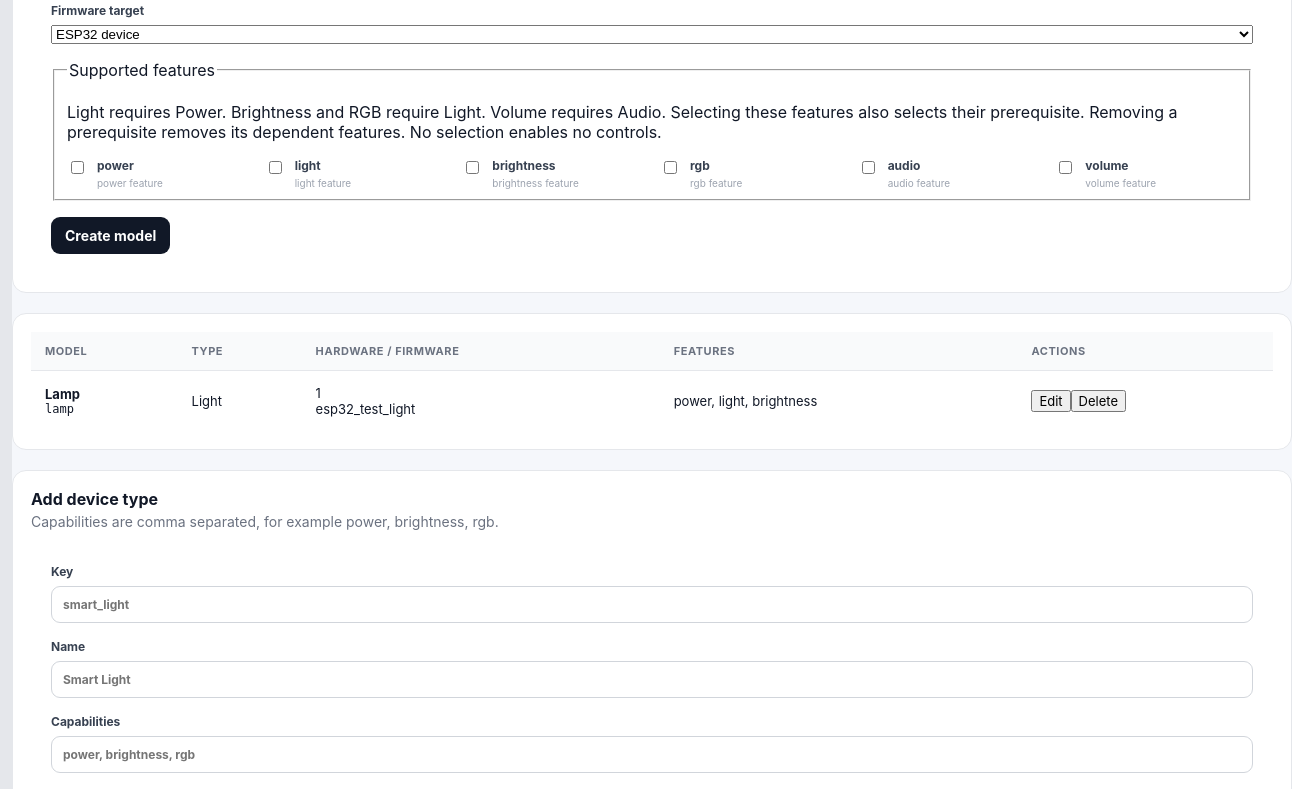
shows pending schedule delivery after a model is saved
(page scrolled)
Click the button with aria-label "Edit Lamp": (1051, 401) [1031, 390, 1071, 412]
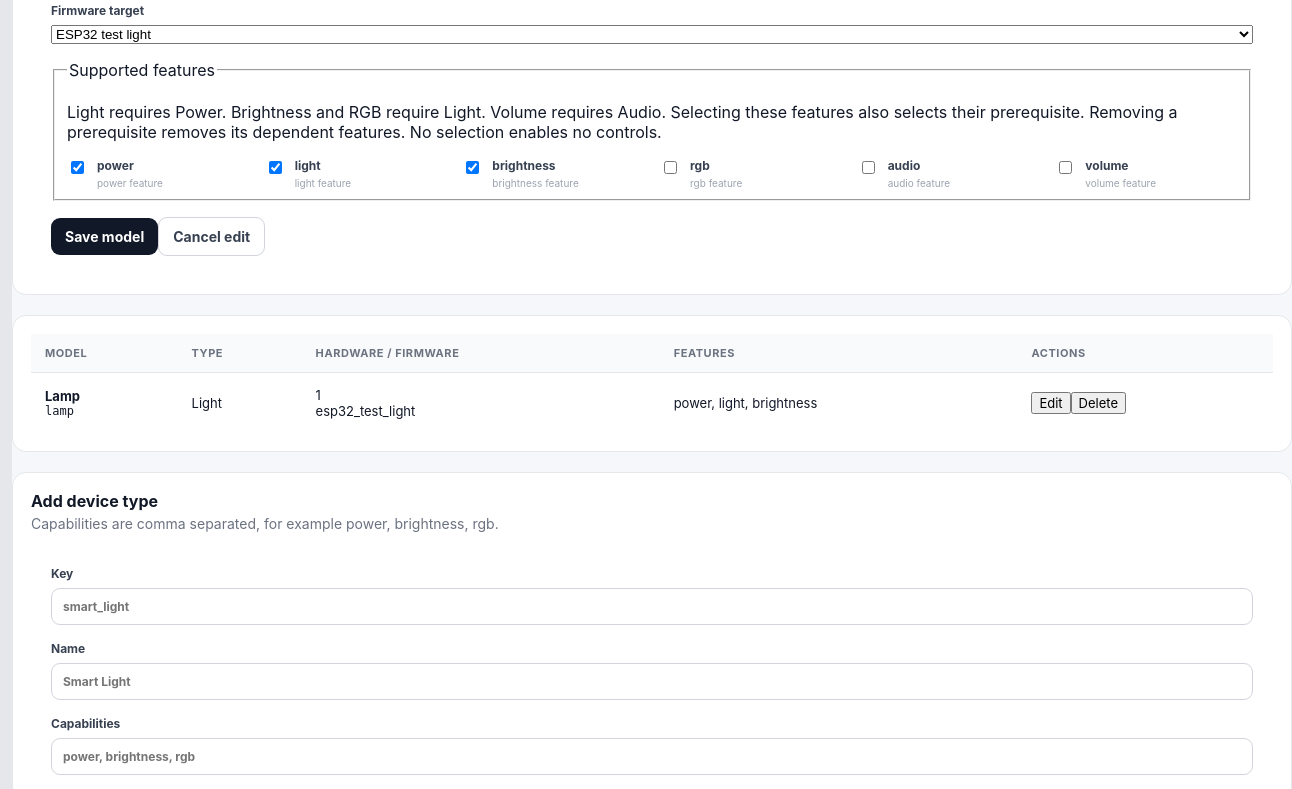
Click the button "Save model": (105, 236) [51, 218, 158, 255]
(page scrolled)
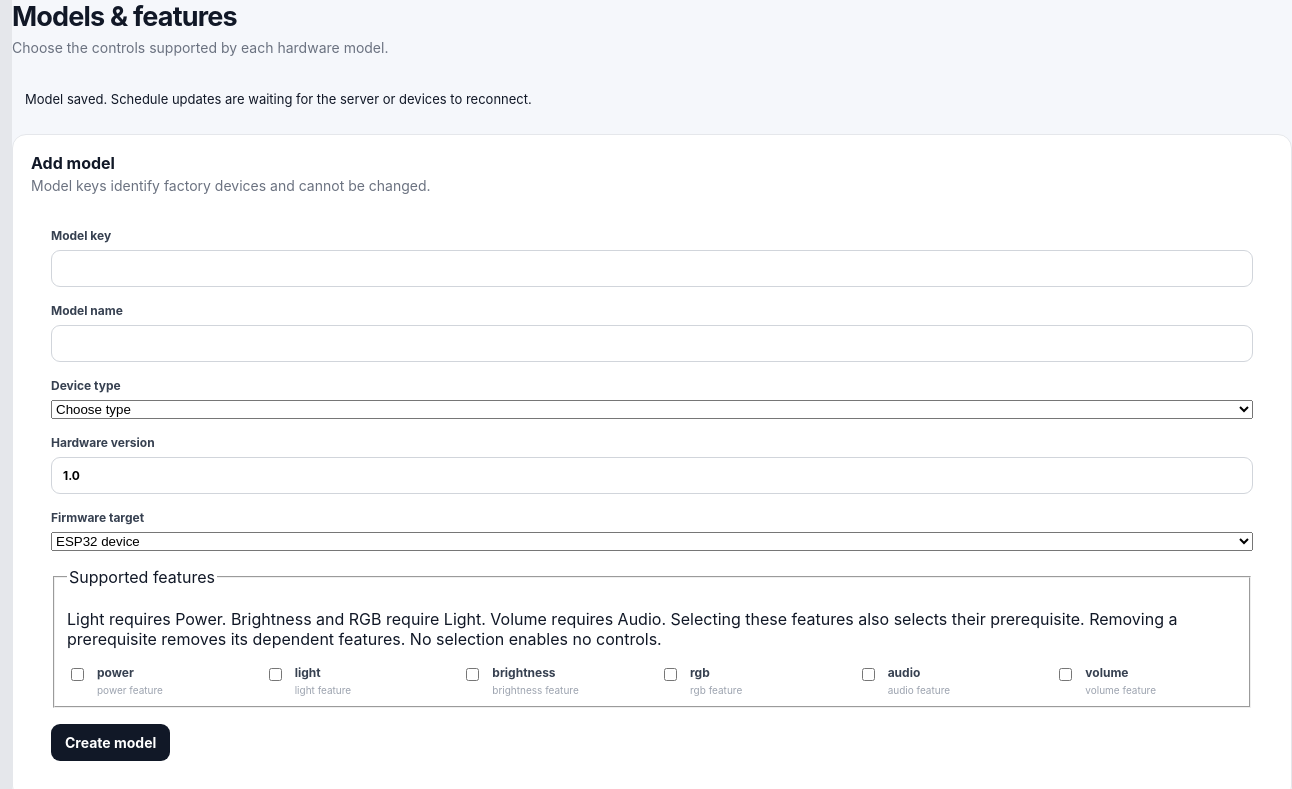
Check: the text "Model saved. Schedule updates are waiting for the server or devices to reconnect." is shown, box [25, 91, 532, 107]
